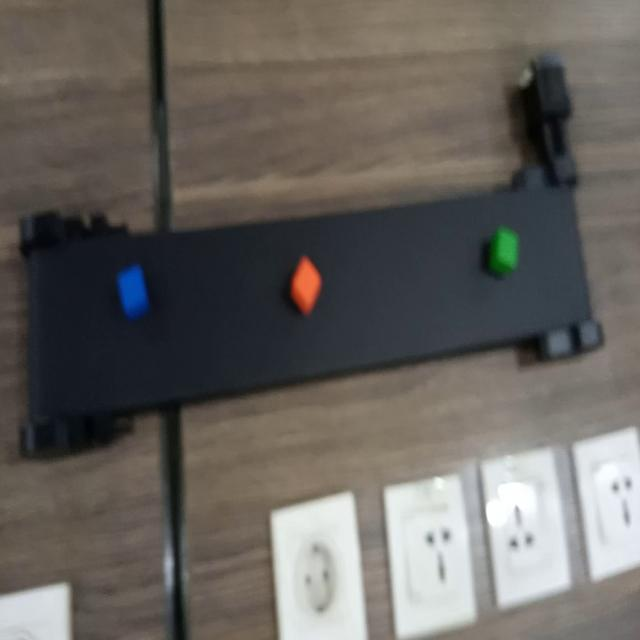cube: (112, 254, 156, 325), (481, 217, 528, 280)
